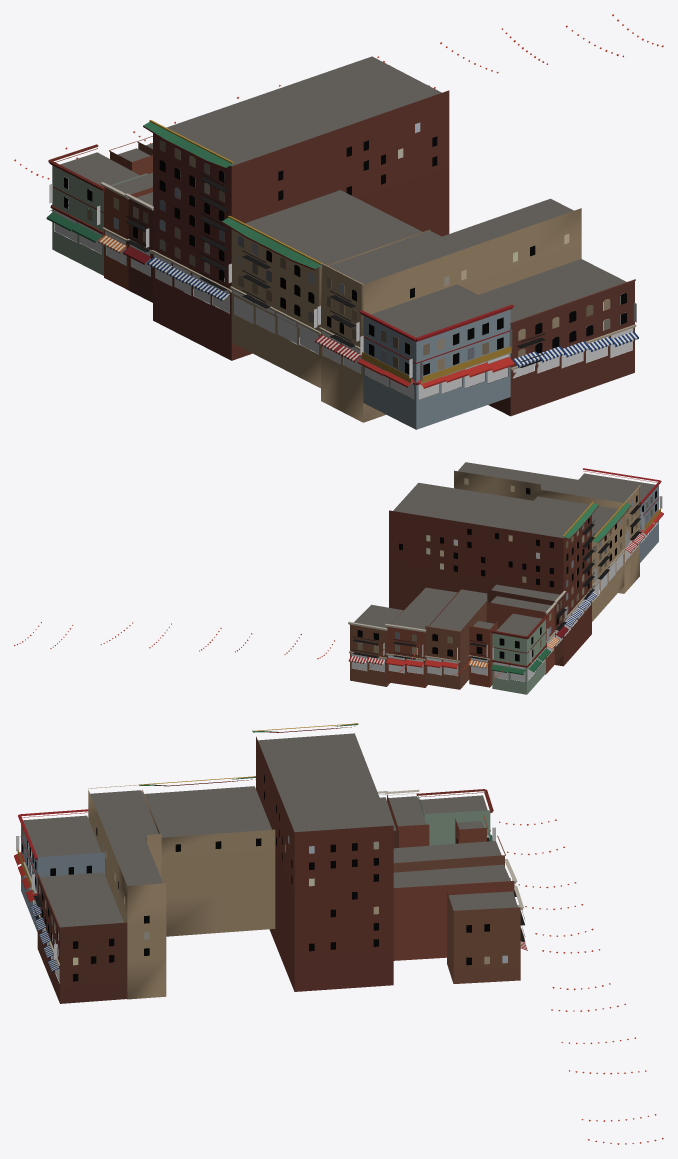
3 views of the same model, one above another, from view 1: azimuth 30°, elevation 25°; view 2: azimuth 150°, elevation 25°; view 3: azimuth 270°, elevation 25° (orthographic). The views are drawn at different scales.
Visible parts, largest first — view 1: L1_brickred, L1_roof, L1_brick, L1_stucco, L1_win, L1_shopint, L1_d_fabric, L1_stone, L1_d_metal, L1_sign, L1_d_paint, L1_rooftile (+1 smaller); view 2: L1_brickred, L1_roof, L1_brick, L1_stucco, L1_win, L1_d_brickred, L1_d_fabric, L1_shopint, L1_stone, L1_d_metal, L1_sign, L1_rooftile (+1 smaller); view 3: L1_roof, L1_brickred, L1_brick, L1_d_brickred, L1_win, L1_stucco, L1_d_stucco, L1_stone, L1_d_fabric, L1_d_paint.
Part boxes in pixels (x1=…): L1_brickred: x1=104, y1=90, x2=634, y2=415; L1_roof: x1=60, y1=56, x2=626, y2=337; L1_brick: x1=231, y1=208, x2=581, y2=422; L1_stucco: x1=52, y1=165, x2=510, y2=429; L1_win: x1=64, y1=122, x2=626, y2=375; L1_shopint: x1=54, y1=223, x2=632, y2=399; L1_d_fabric: x1=46, y1=205, x2=638, y2=388; L1_stone: x1=48, y1=136, x2=636, y2=385; L1_d_metal: x1=126, y1=173, x2=545, y2=367; L1_sign: x1=49, y1=183, x2=636, y2=387; L1_d_paint: x1=143, y1=120, x2=511, y2=383; L1_rooftile: x1=143, y1=122, x2=321, y2=268; L1_brickred: x1=350, y1=510, x2=591, y2=689; L1_roof: x1=354, y1=462, x2=655, y2=636; L1_brick: x1=454, y1=470, x2=639, y2=621; L1_stucco: x1=492, y1=485, x2=658, y2=694; L1_win: x1=357, y1=478, x2=656, y2=661; L1_d_brickred: x1=386, y1=589, x2=554, y2=688; L1_d_fabric: x1=348, y1=510, x2=663, y2=675; L1_shopint: x1=351, y1=522, x2=657, y2=681; L1_stone: x1=348, y1=468, x2=661, y2=667; L1_d_metal: x1=353, y1=502, x2=640, y2=660; L1_sign: x1=351, y1=496, x2=662, y2=669; L1_rooftile: x1=564, y1=503, x2=630, y2=542; L1_roof: x1=23, y1=733, x2=517, y2=927; L1_brickred: x1=37, y1=736, x2=520, y2=1003; L1_brick: x1=88, y1=789, x2=275, y2=999; L1_d_brickred: x1=387, y1=794, x2=514, y2=983; L1_win: x1=22, y1=775, x2=507, y2=981; L1_stucco: x1=21, y1=824, x2=104, y2=931; L1_d_stucco: x1=418, y1=795, x2=490, y2=845; L1_stone: x1=18, y1=784, x2=523, y2=965; L1_d_fabric: x1=14, y1=834, x2=527, y2=972; L1_d_paint: x1=17, y1=723, x2=358, y2=894.
Size of the model in its own units: 117 by 33.27 by 118.
